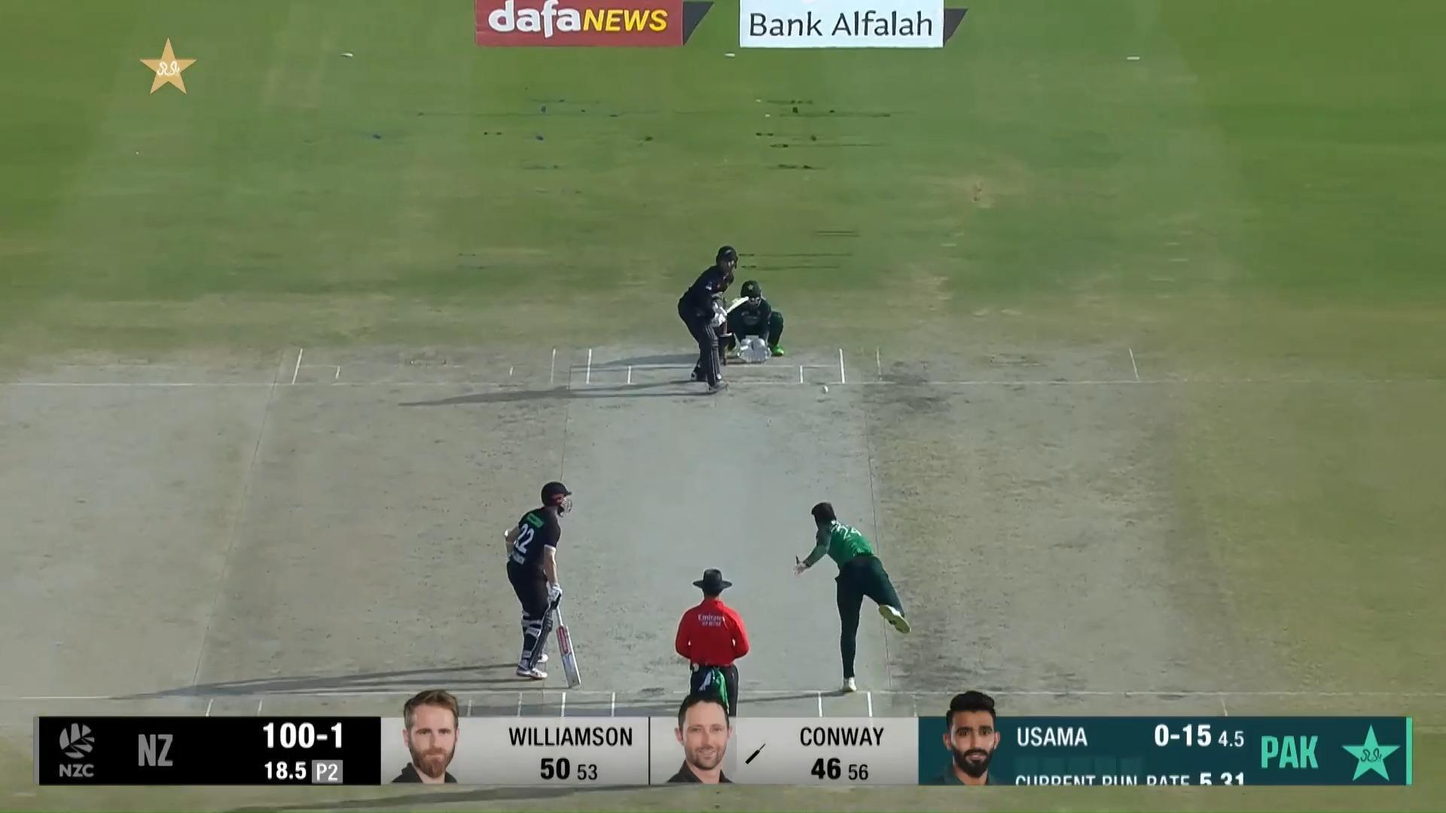BM 1: (677, 245, 749, 394)
BO: (792, 499, 912, 695)
